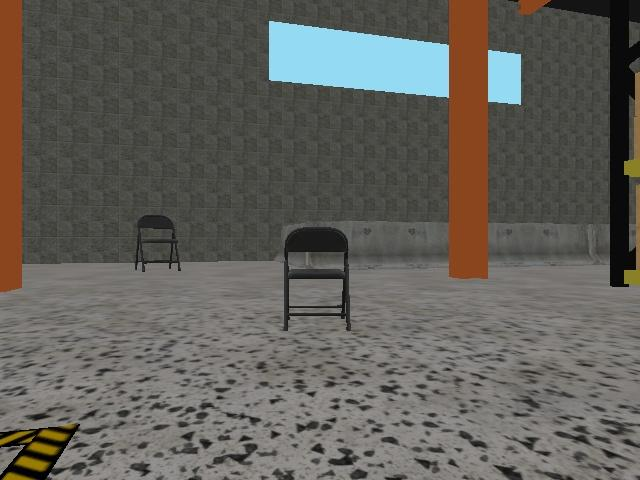chair: (281, 225, 353, 333), (133, 213, 182, 273)
